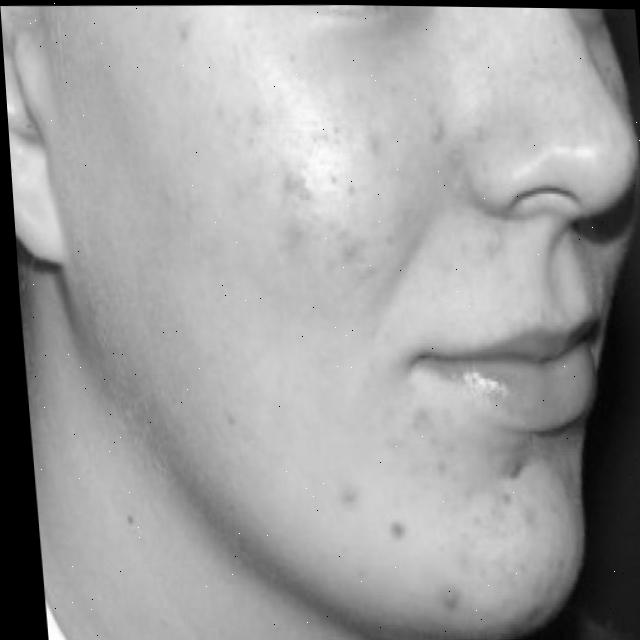Acne: (416, 543, 608, 640), (271, 117, 390, 263), (435, 140, 473, 193)
